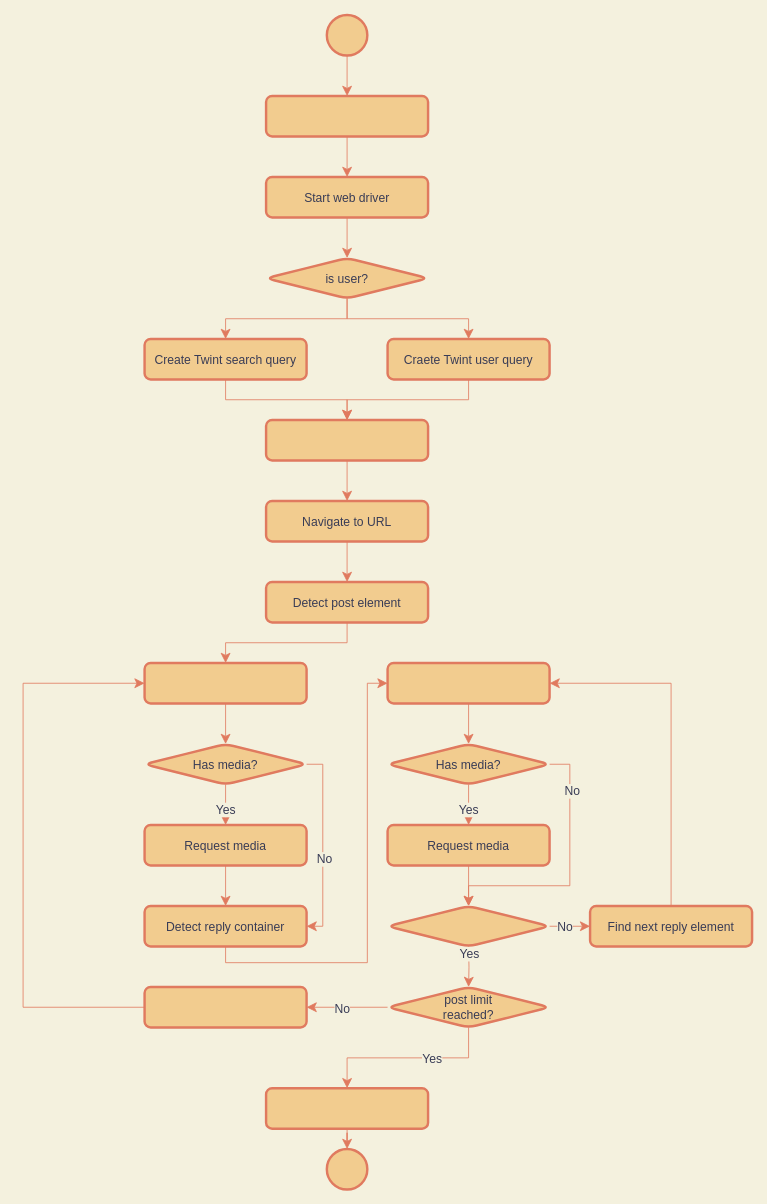
Some shapes in this 767 by 1204 pixel diagram are drawn without their labels. Here are the shapes that lost their labels. From the top down, the centre of each, then its label:
At pixel 346 115: "Get search query".
At pixel 346 439: "For each response".
At pixel 225 682: "Extract post content".
At pixel 468 682: "Extract reply".
At pixel 468 925: "comment limit reached?".
At pixel 225 1006: "Go to next post".
At pixel 346 1108: "Write json file".
